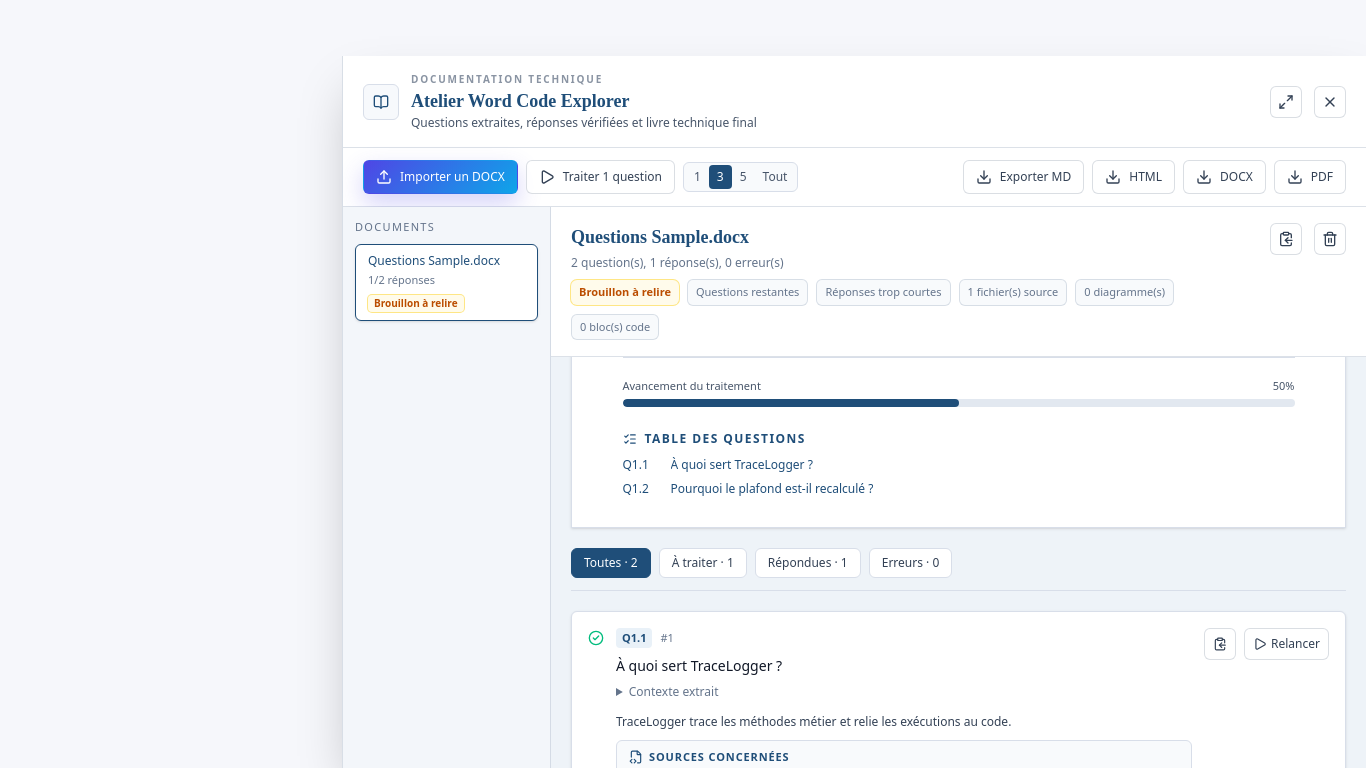
Scenario: WorkDocumentsPanel › filters questions by processing status
The image size is (1366, 768).
(page scrolled)
Click the button "À traiter · 1": (703, 562) [659, 548, 747, 578]
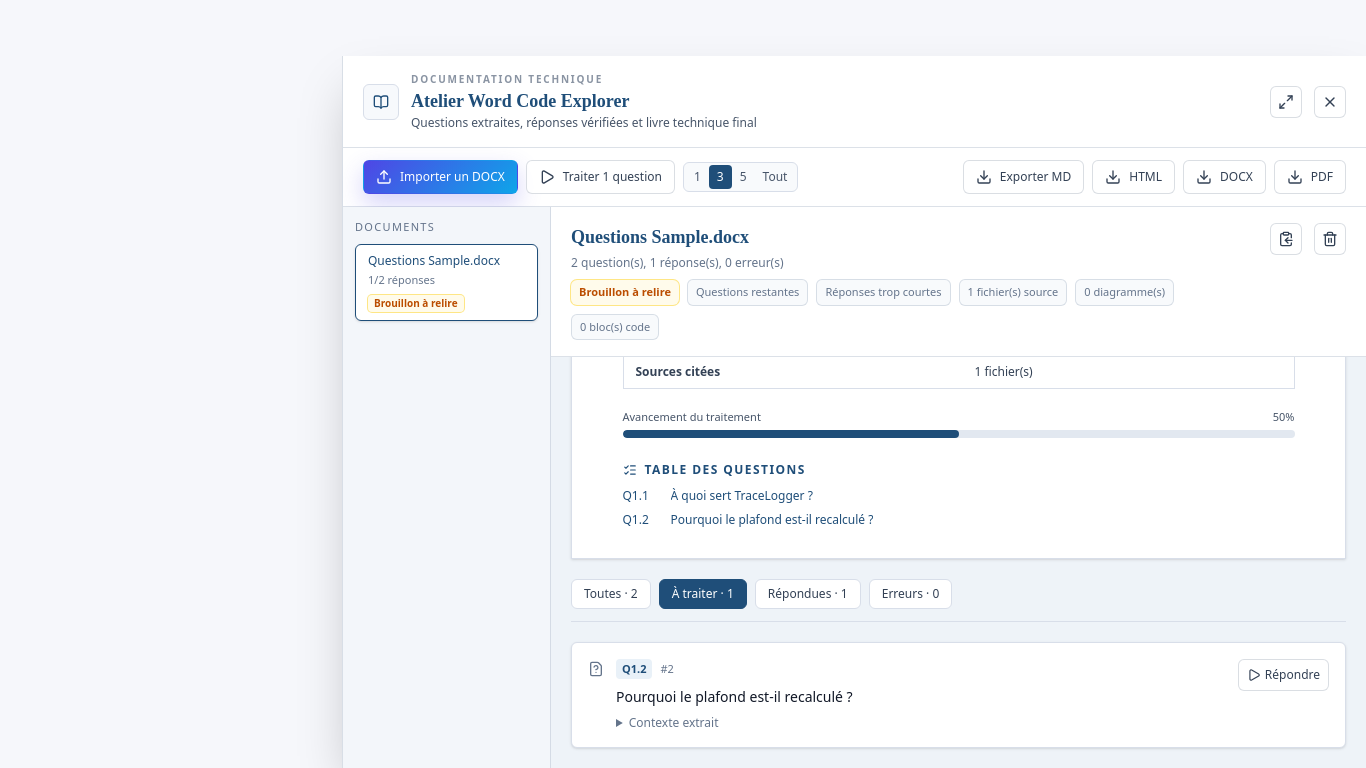
expect the text "Pourquoi le plafond est-il recalculé ?" below "Q1.1" is shown: met, box [670, 510, 873, 528]
Click the button "Répondues · 1": (808, 594) [755, 578, 861, 608]
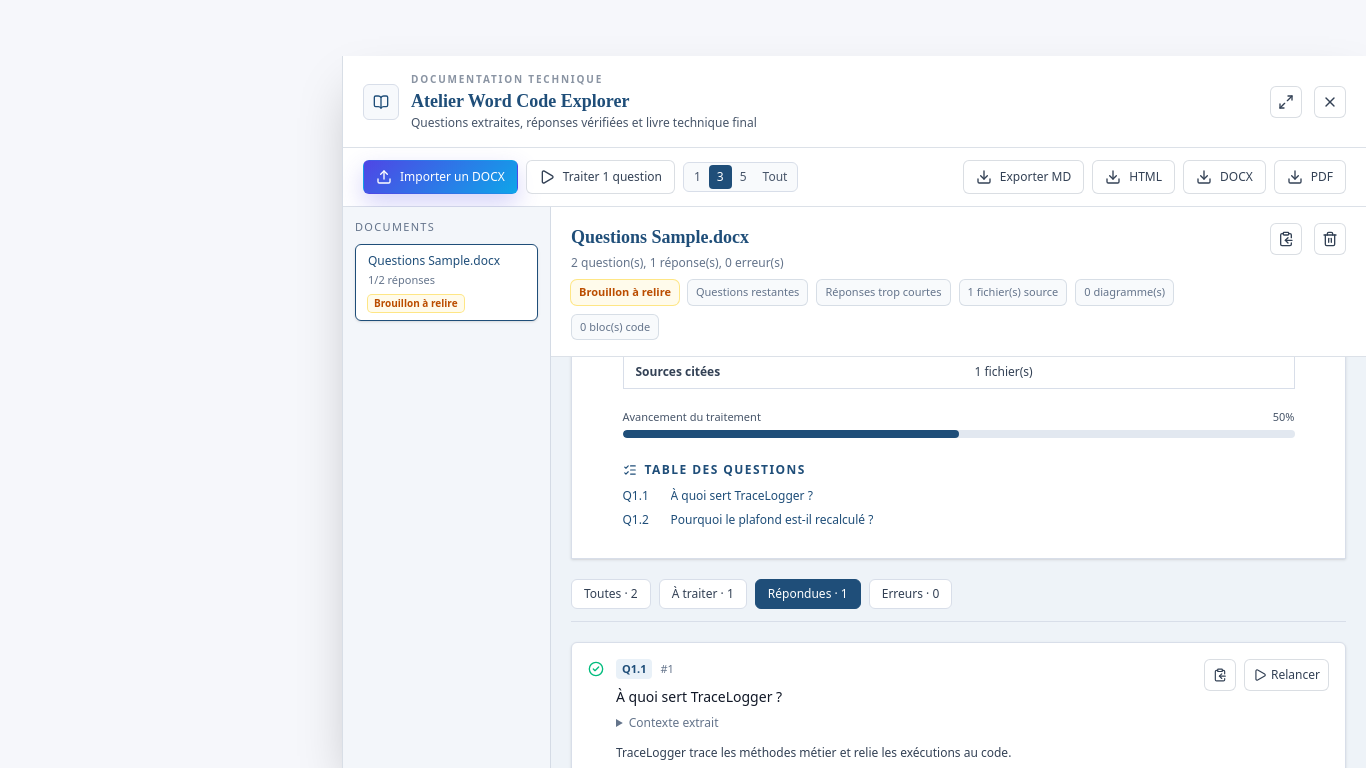
expect the button named "Copier la réponse Q1.1" is shown: met, box [1204, 658, 1236, 690]
expect the button "Répondre" is gone: met
